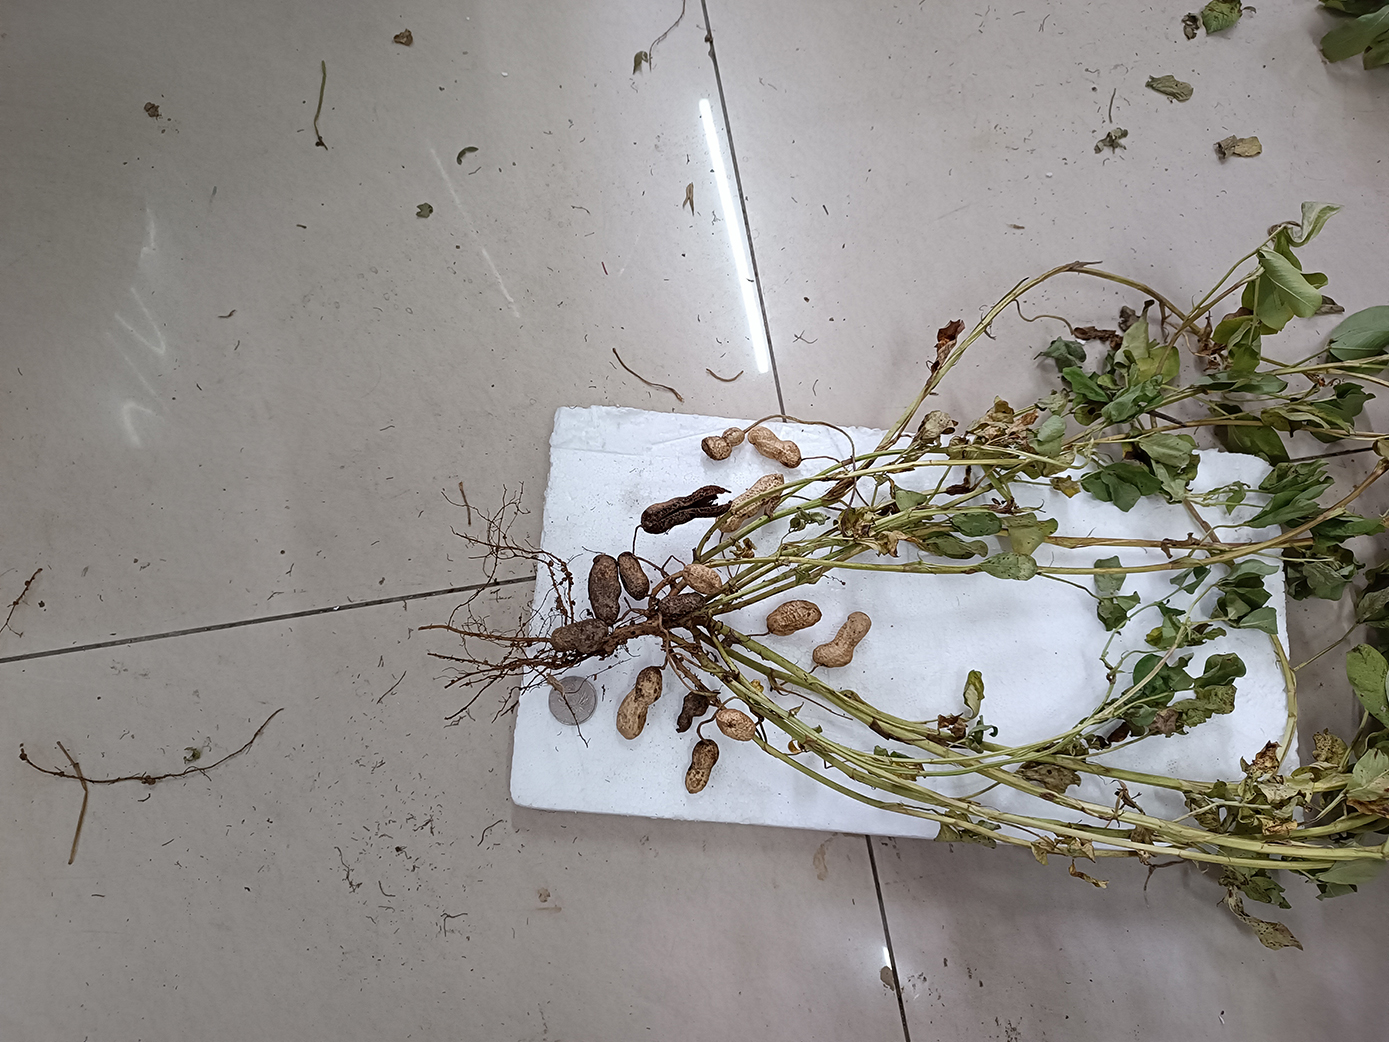h: (716, 473, 784, 530), (615, 665, 662, 740), (811, 612, 872, 665), (749, 427, 801, 468), (766, 599, 822, 635), (702, 425, 745, 462), (715, 708, 756, 742), (684, 561, 724, 594)
l: (641, 486, 733, 536), (586, 552, 621, 623), (549, 617, 609, 655), (685, 738, 720, 796), (617, 552, 649, 600), (676, 691, 710, 736), (659, 592, 706, 617)
